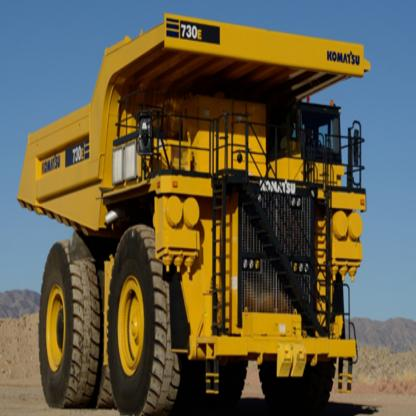dump_truck: (18, 15, 371, 409)
